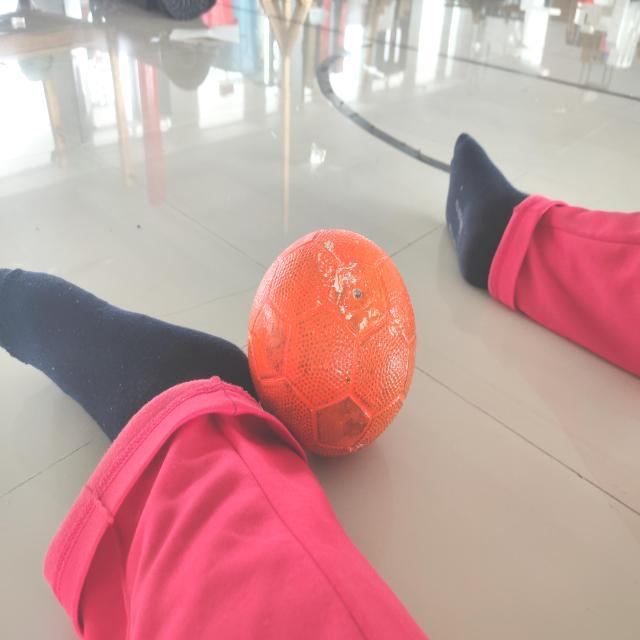bola: (246, 224, 419, 467)
